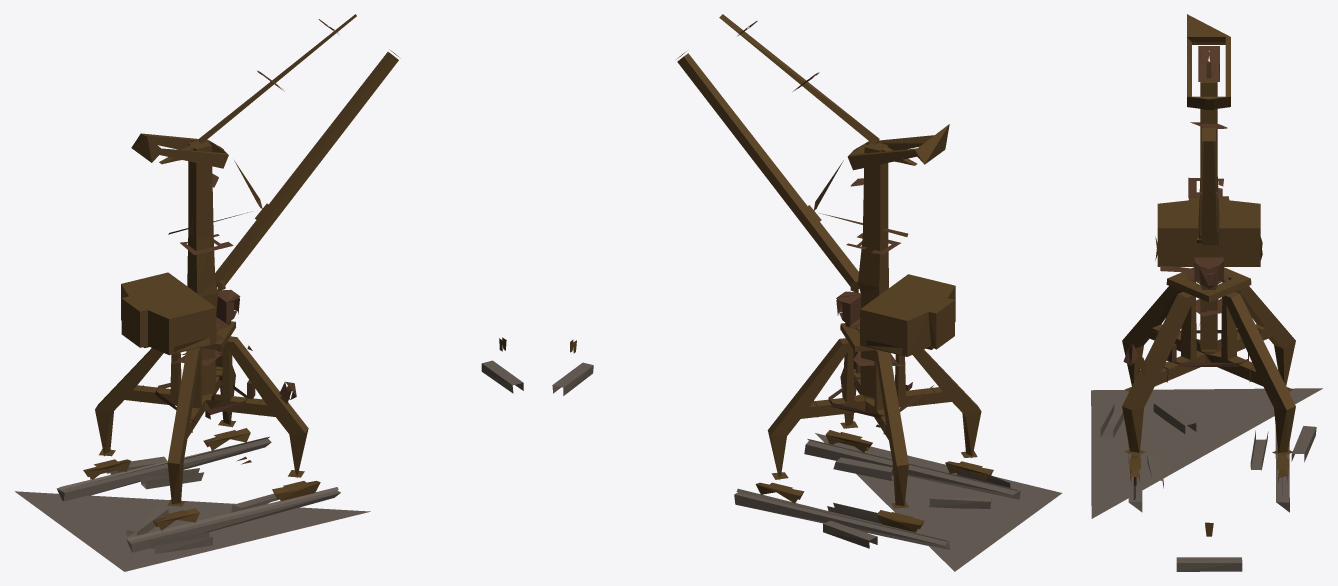
Rendered from port-crane.lod2.glb.
3 views of the same model, side by side, from view 1: azimuth 30°, elevation 25°; view 2: azimuth 150°, elevation 25°; view 3: azimuth 270°, elevation 25° (orthographic). The views are drawn at different scales.
Parts seen in each view (by area): view 1: Details_anim_23_Details_0; view 2: Details_anim_23_Details_0; view 3: Details_anim_23_Details_0.
Part boxes in pixels (bbox=[...]): Details_anim_23_Details_0: bbox=[15, 14, 523, 571]; Details_anim_23_Details_0: bbox=[552, 14, 1061, 571]; Details_anim_23_Details_0: bbox=[1091, 14, 1322, 571].
Size of the model in its own units: 42.21 by 41.14 by 18.08.
